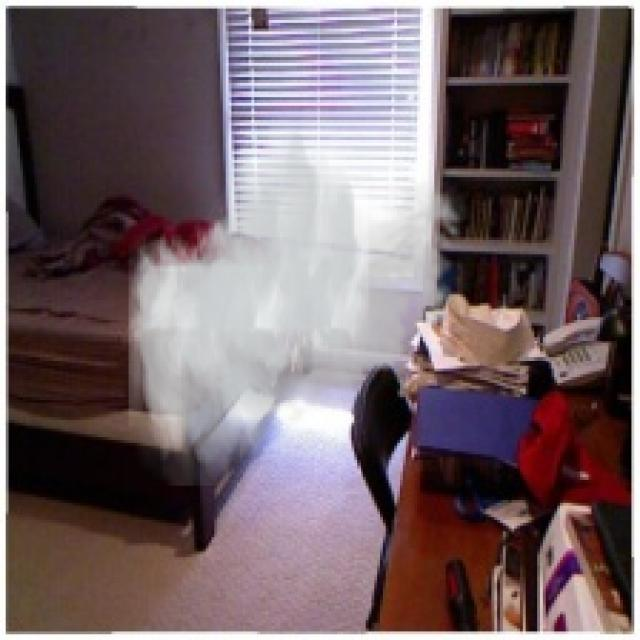smoke: (128, 108, 472, 486)
